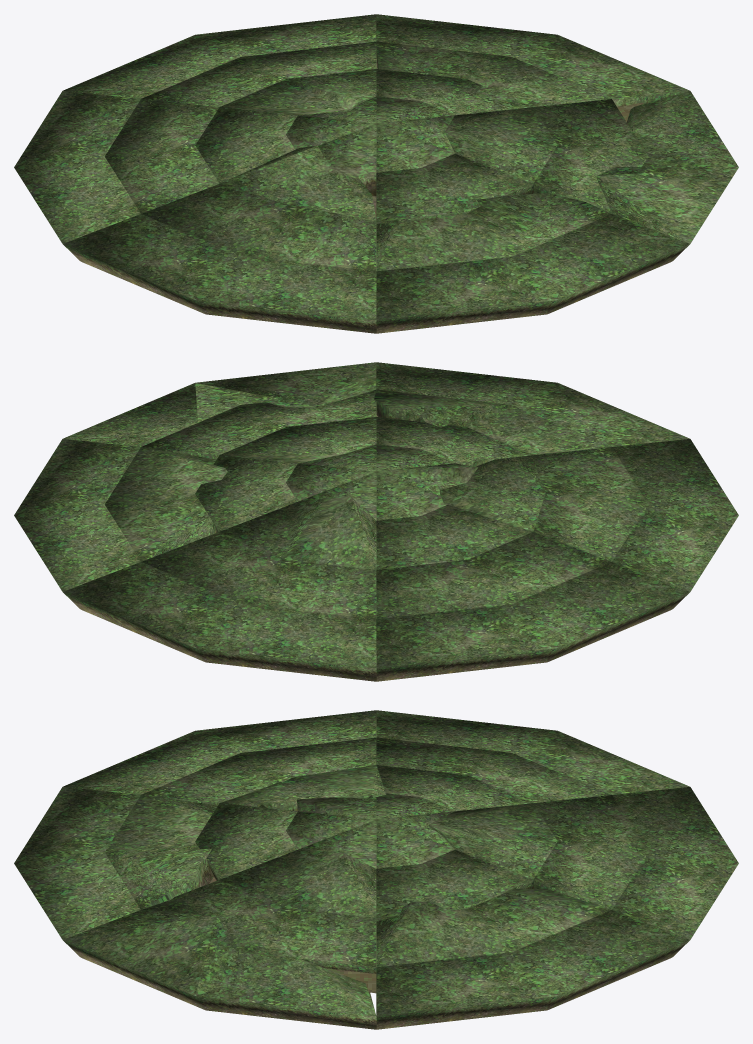
Rendered from eff_enem_MI_rayquaza_M_ground05.obj.
3 views of the same model, one above another, from view 1: azimuth 30°, elevation 25°; view 2: azimuth 150°, elevation 25°; view 3: azimuth 270°, elevation 25° (orthographic).
Parts seen in each view (by area): view 1: polygon84, polygon4, polygon20, polygon68, polygon88, polygon8, polygon36, polygon52, polygon72, polygon24, polygon40, polygon56 (+15 smaller); view 2: polygon52, polygon68, polygon36, polygon84, polygon56, polygon72, polygon20, polygon4, polygon88, polygon40, polygon60, polygon76 (+14 smaller); view 3: polygon20, polygon36, polygon4, polygon52, polygon40, polygon24, polygon68, polygon84, polygon56, polygon8, polygon28, polygon88 (+15 smaller).
Boxes of the visible parts, left/top/right/bottom form: polygon84: left=63, top=214, right=376, bottom=320; polygon4: left=376, top=214, right=689, bottom=320; polygon20: left=596, top=91, right=738, bottom=243; polygon68: left=14, top=91, right=140, bottom=243; polygon88: left=141, top=184, right=376, bottom=271; polygon8: left=376, top=193, right=611, bottom=271; polygon36: left=376, top=14, right=689, bottom=98; polygon52: left=63, top=14, right=376, bottom=98; polygon72: left=104, top=99, right=219, bottom=213; polygon24: left=533, top=99, right=648, bottom=213; polygon40: left=376, top=41, right=611, bottom=107; polygon56: left=141, top=41, right=376, bottom=107; polygon52: left=63, top=562, right=376, bottom=668; polygon68: left=376, top=562, right=689, bottom=668; polygon36: left=14, top=439, right=140, bottom=591; polygon84: left=612, top=439, right=738, bottom=591; polygon56: left=141, top=532, right=376, bottom=619; polygon72: left=376, top=532, right=611, bottom=619; polygon20: left=63, top=362, right=376, bottom=445; polygon4: left=376, top=362, right=689, bottom=446; polygon88: left=533, top=447, right=648, bottom=561; polygon40: left=104, top=447, right=226, bottom=561; polygon60: left=220, top=495, right=376, bottom=569; polygon76: left=376, top=504, right=532, bottom=569; polygon20: left=63, top=910, right=376, bottom=1016; polygon36: left=376, top=910, right=689, bottom=1016; polygon4: left=14, top=787, right=140, bottom=939; polygon52: left=612, top=787, right=738, bottom=939; polygon40: left=376, top=888, right=611, bottom=967; polygon24: left=141, top=880, right=376, bottom=967; polygon68: left=376, top=710, right=689, bottom=794; polygon84: left=63, top=710, right=376, bottom=794; polygon56: left=533, top=795, right=648, bottom=909; polygon8: left=104, top=795, right=217, bottom=909; polygon28: left=220, top=849, right=376, bottom=917; polygon88: left=141, top=737, right=376, bottom=803.
Size of the model in its own units: 60 by 6.85 by 60.
Materials: 4 (4 with a texture image).
